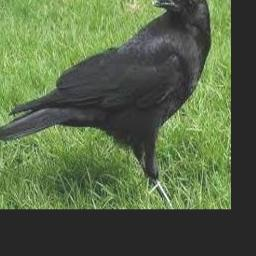Crow: (0, 0, 212, 182)
